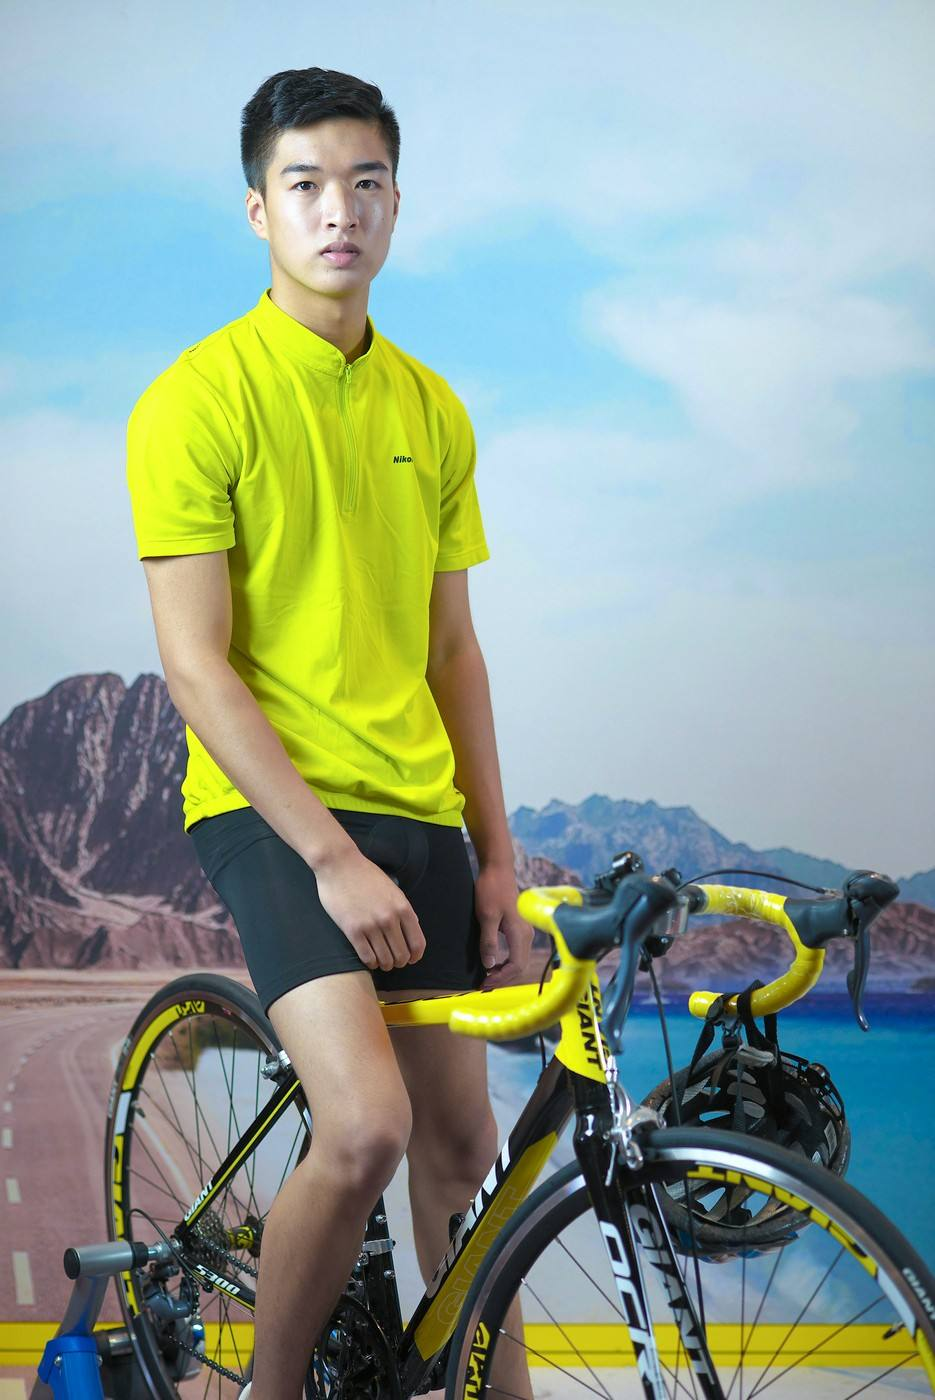person: (105, 44, 707, 1262)
